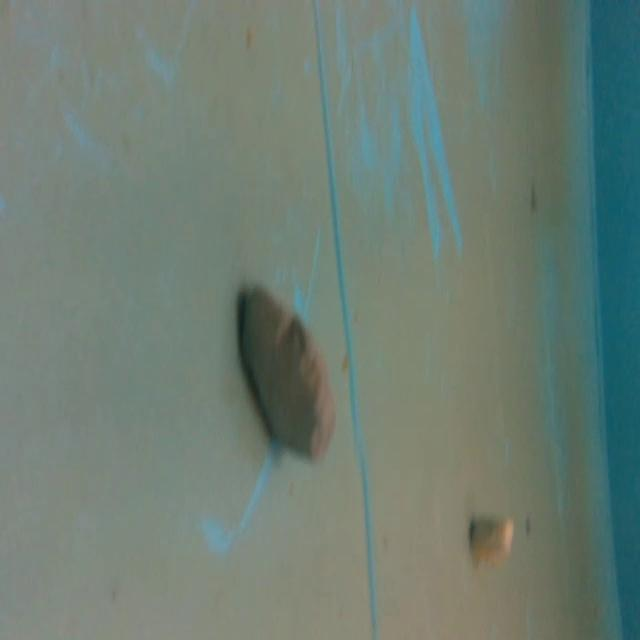rock: (232, 279, 348, 474)
